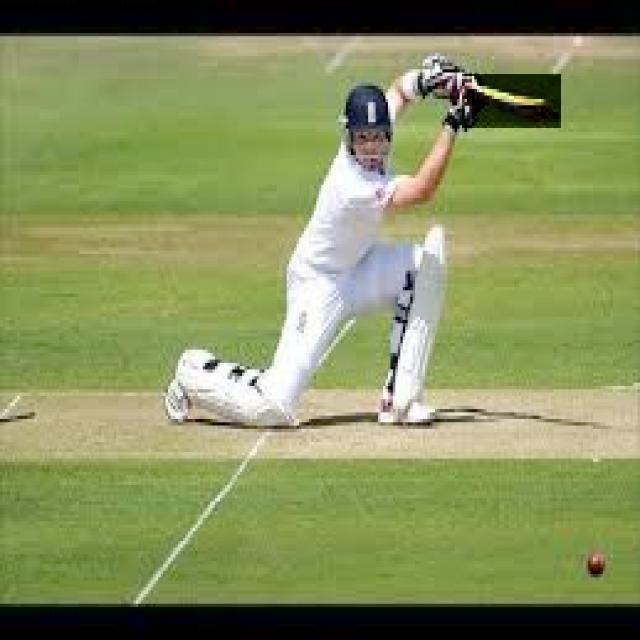bat: (456, 75, 564, 129)
